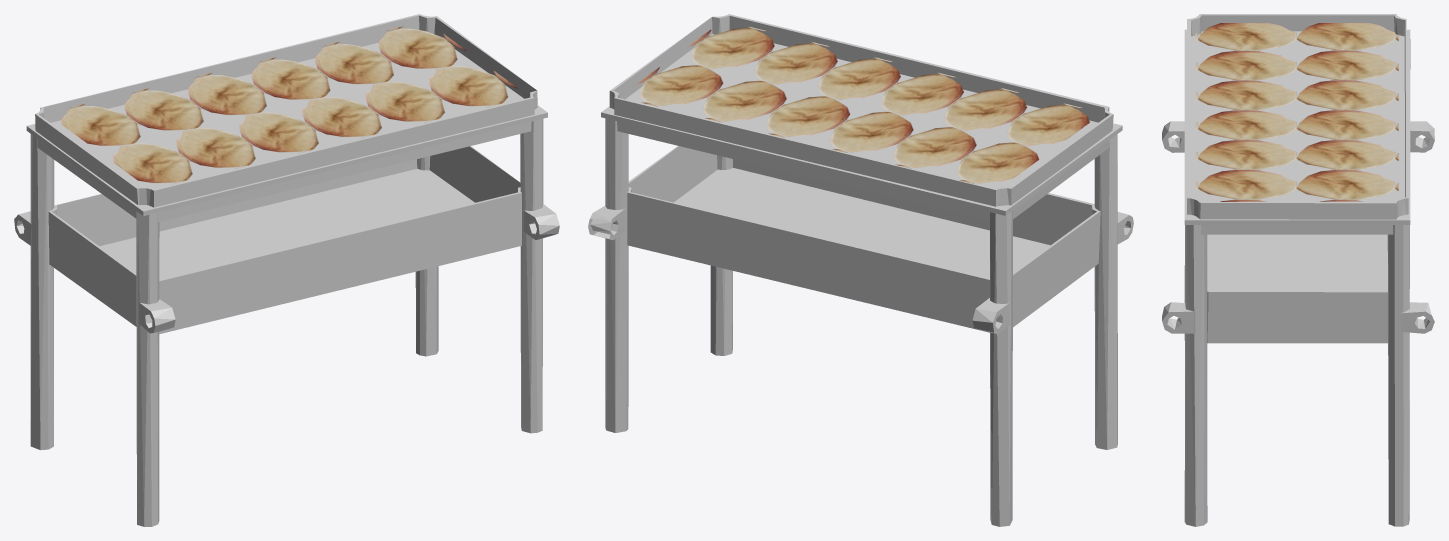
The model's file is shewbread.glb.
3 renders of one model, left to right at view 1: azimuth 30°, elevation 25°; view 2: azimuth 150°, elevation 25°; view 3: azimuth 270°, elevation 25°, orthographic. The views are drawn at different scales.
Parts seen in each view (by area): view 1: gold, shewbread.png; view 2: gold, shewbread.png; view 3: gold, shewbread.png.
Boxes of the visible parts, x1,y1,x2,y2 form: gold: (14, 14, 559, 526); shewbread.png: (61, 26, 517, 184); gold: (588, 14, 1133, 526); shewbread.png: (636, 26, 1089, 183); gold: (1162, 14, 1434, 526); shewbread.png: (1195, 23, 1398, 201).
Size of the model in its own units: 2 by 1.58 by 1.21.
2 materials, 1 textured.
